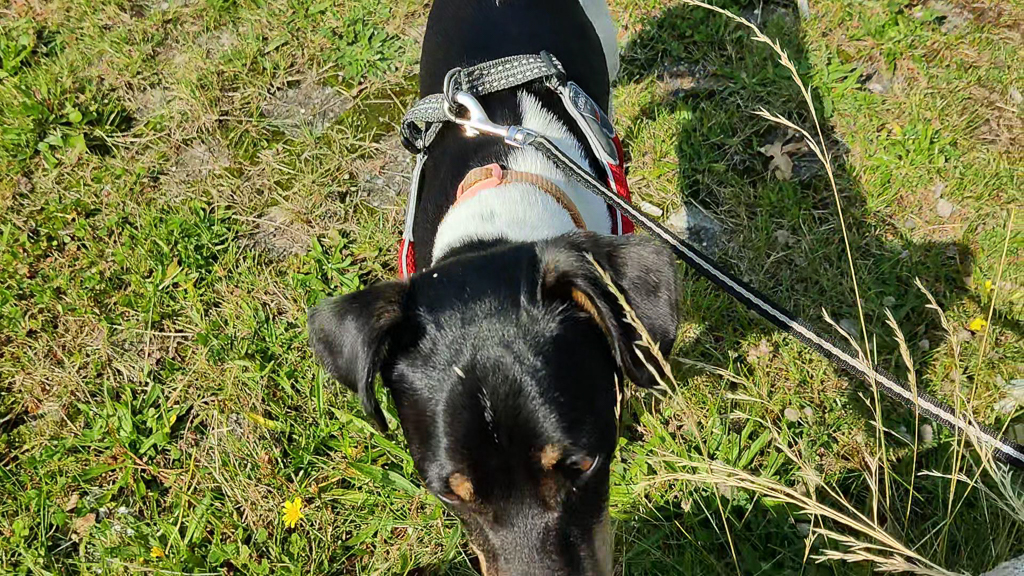Dog: (294, 0, 724, 576)
